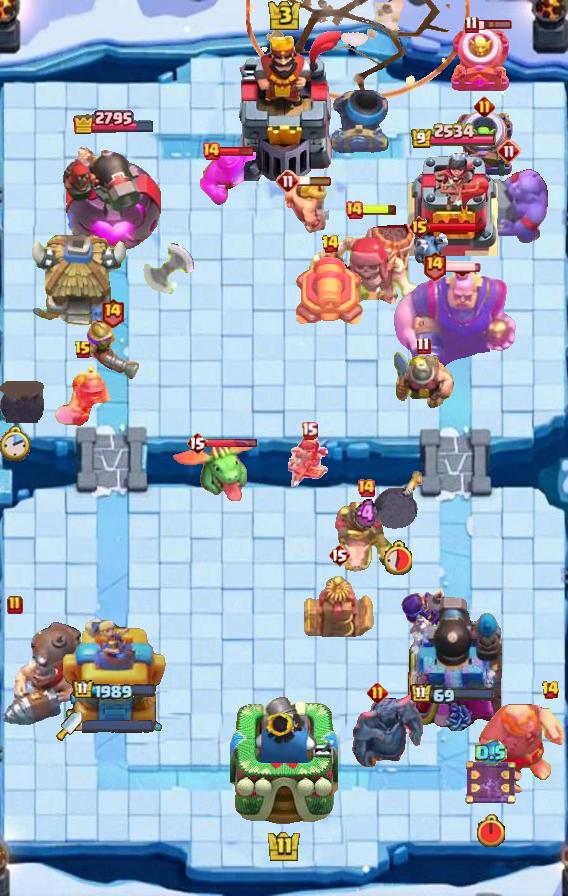archer-queen: (465, 168, 553, 248)
baby-dragon: (372, 469, 423, 531), (0, 381, 44, 423)
balloon: (474, 693, 568, 795)
bandit: (53, 363, 113, 431), (392, 349, 454, 413)
bar: (61, 615, 166, 731)
bomb-tower: (80, 317, 144, 383)
electro-giant: (305, 215, 425, 325)
electro-spirit: (475, 739, 507, 767), (355, 498, 377, 531)
electro-wizard: (169, 439, 259, 505)
elixir: (0, 425, 32, 463), (475, 814, 507, 849), (382, 541, 412, 575)
emote: (428, 221, 480, 233), (206, 439, 258, 450), (362, 203, 398, 217), (444, 260, 482, 272), (475, 19, 512, 31), (297, 175, 333, 187), (218, 147, 254, 158)
freeze: (333, 502, 399, 574)
goblin-ball: (400, 587, 452, 643)
goblin-brawler: (304, 572, 374, 640)
goblin-cage: (448, 25, 512, 95), (452, 109, 516, 179)
goblin-giant: (283, 180, 329, 234)
golemite: (348, 691, 430, 771)
guard: (246, 0, 470, 100)
ice-spirit-evolution-symbol: (464, 757, 518, 807)
king-tower: (223, 31, 345, 181), (230, 692, 338, 826)
king-tower-bar: (82, 719, 154, 733)
lightning: (390, 266, 518, 380)
musketeer: (329, 89, 389, 153)
prince: (27, 235, 129, 331)
queen-tower: (408, 152, 498, 256)
royal-delivery: (411, 230, 451, 274)
royal-giant: (142, 243, 200, 305)
royal-recruit: (294, 256, 366, 330)
selected: (411, 123, 498, 150), (72, 108, 156, 134), (410, 683, 496, 706), (71, 678, 156, 701)
skeleton-dragon: (287, 434, 331, 494)
text: (99, 296, 124, 327), (422, 251, 447, 281), (497, 139, 521, 163), (276, 169, 300, 193), (409, 215, 432, 239), (186, 431, 208, 455), (328, 543, 350, 567), (367, 681, 389, 702), (474, 96, 495, 117), (201, 141, 221, 161), (344, 200, 364, 220), (320, 234, 340, 254), (356, 478, 376, 498), (540, 680, 560, 700), (74, 340, 92, 360), (302, 421, 319, 440), (7, 595, 23, 615), (465, 15, 479, 34), (417, 337, 431, 356)
tornado: (200, 148, 256, 206)
tower-bar: (404, 593, 502, 731), (63, 136, 165, 256)
wizard: (0, 620, 88, 728)
